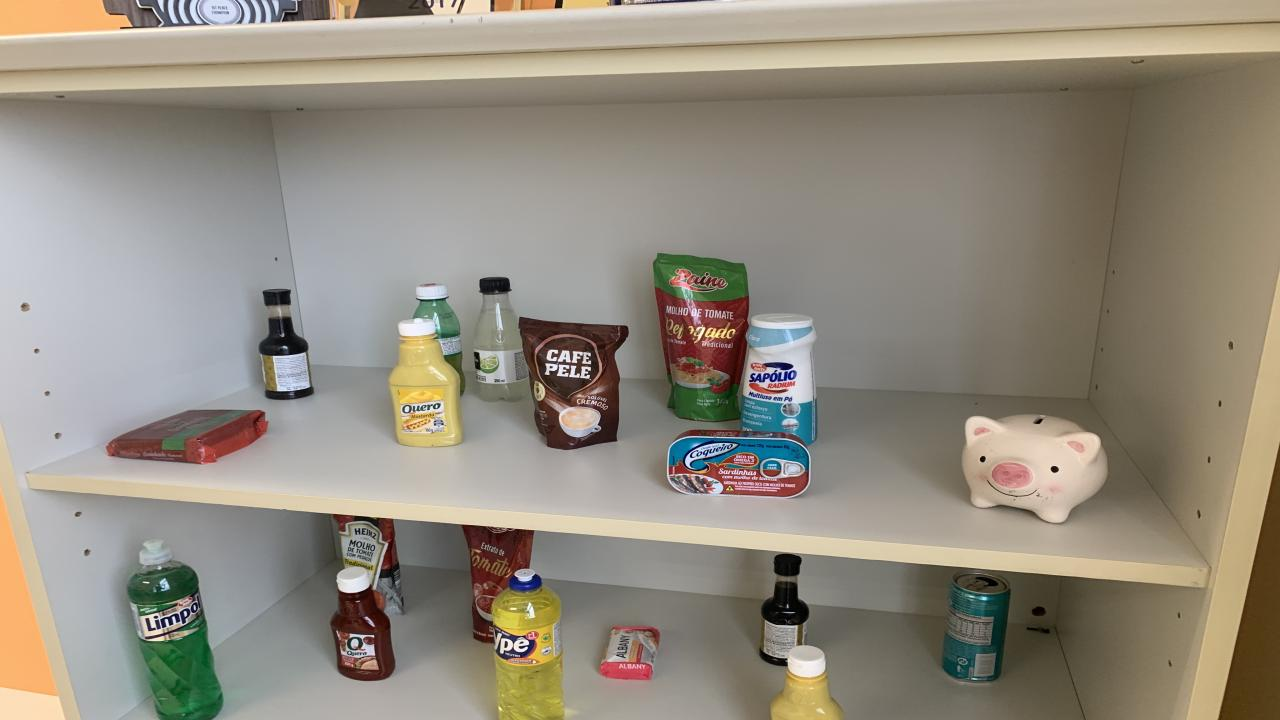Cleaner-Cleanup_Items: (740, 313, 818, 444)
Coffee-Pantry_Items: (520, 317, 628, 450)
Detergent-Cleanup_Items: (128, 540, 222, 718), (492, 570, 565, 718)
English_Sauce-Pantry_Items: (258, 289, 312, 399), (760, 553, 810, 666)
Guarana-Drinks: (415, 283, 465, 392)
Guava-Snacks: (105, 409, 268, 463)
Ketchup-Pantry_Items: (330, 566, 395, 681)
Mustard-Pantry_Items: (388, 319, 462, 446), (770, 645, 845, 720)
Pig_Safe-Miscellaneous: (962, 414, 1108, 523)
Soap-Cleanup_Items: (600, 626, 660, 681)
Soda-Drinks: (472, 278, 530, 401)
Tea-Drinks: (942, 570, 1010, 682)
Tomato_Sauce-Pantry_Items: (652, 253, 750, 422), (462, 525, 535, 643), (332, 514, 405, 615)
Tuna_Can-Pantry_Items: (665, 429, 810, 497)
